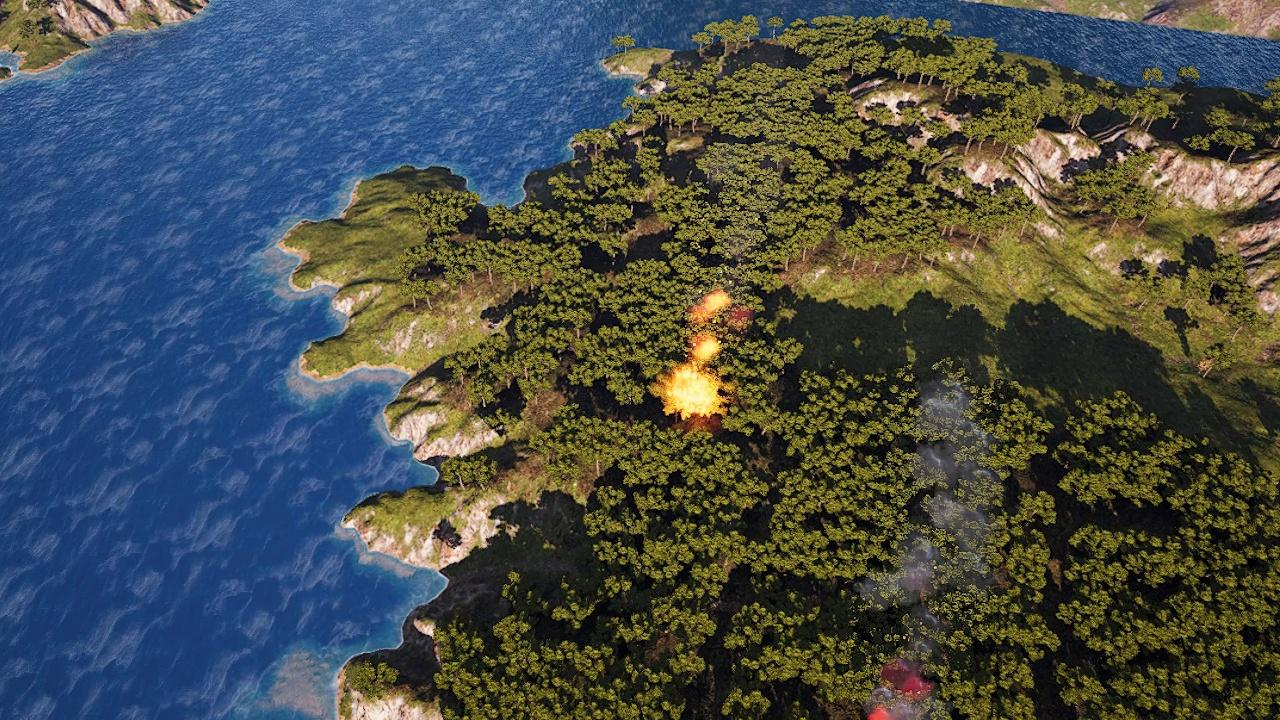fire: (665, 364, 725, 419), (695, 293, 729, 319), (692, 337, 720, 361)
smoke: (847, 366, 997, 716)
